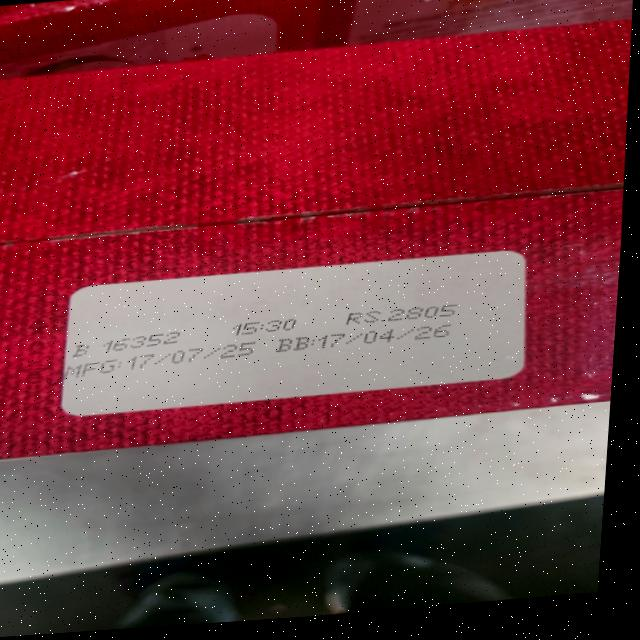BB: (273, 322, 457, 353)
Batch: (69, 331, 185, 357)
MFG: (63, 340, 260, 379)
RS: (344, 302, 463, 325)
TimeStamp: (231, 317, 300, 336)
